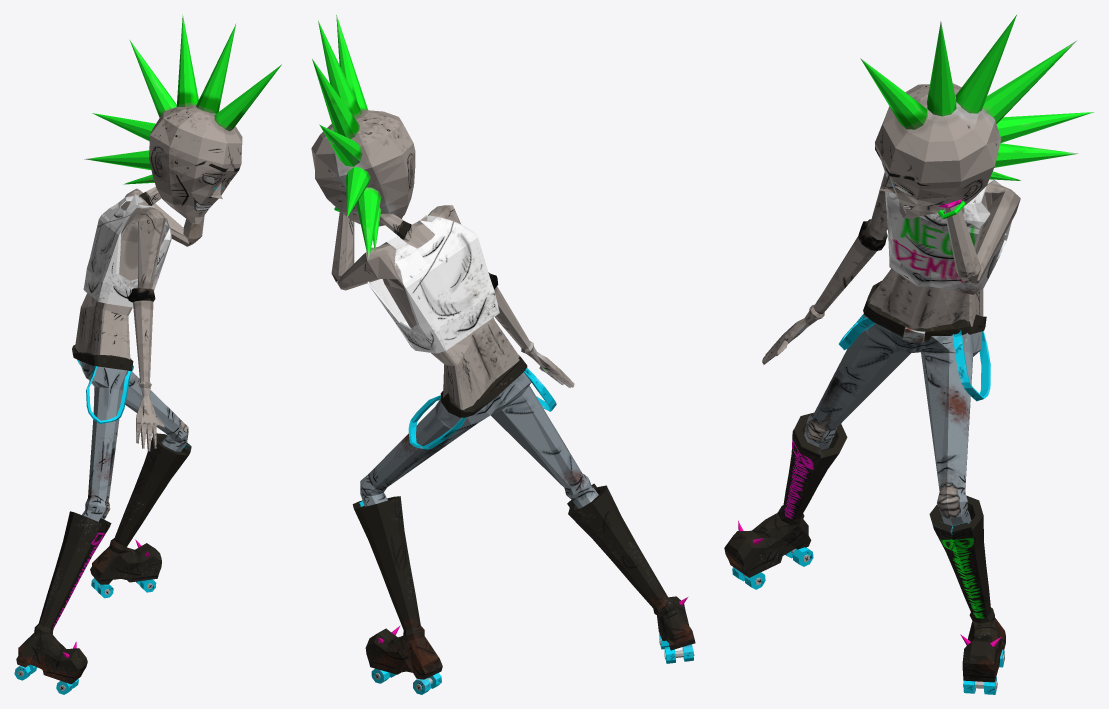
The model's file is punkAnimation_000057.obj.
The picture shows the model from 3 angles, left to right: view 1: azimuth 30°, elevation 25°; view 2: azimuth 150°, elevation 25°; view 3: azimuth 270°, elevation 25°; orthographic projection. The views are drawn at different scales.
Parts seen in each view (by area): view 1: Cube.004_Cube.003; view 2: Cube.004_Cube.003; view 3: Cube.004_Cube.003.
Boxes of the visible parts, left/top/right/bottom form: Cube.004_Cube.003: left=14, top=14, right=281, bottom=694; Cube.004_Cube.003: left=311, top=14, right=695, bottom=694; Cube.004_Cube.003: left=724, top=15, right=1093, bottom=694.
Size of the model in its own units: 3.68 by 6.67 by 3.11.
